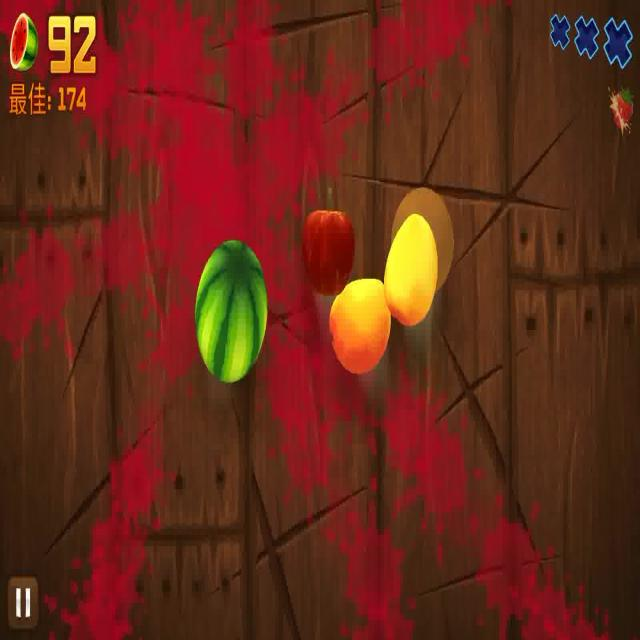fruit: (194, 237, 274, 385), (394, 186, 454, 296), (384, 214, 439, 328), (330, 277, 390, 369), (296, 207, 354, 292)
